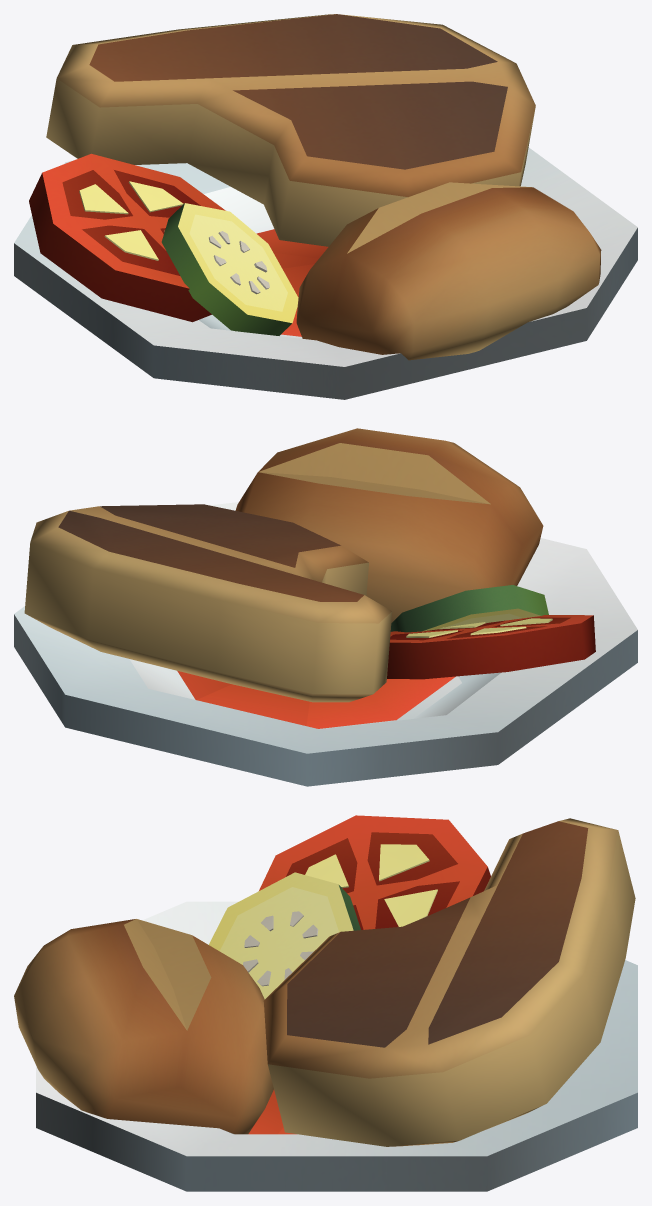
The model's file is plate_steak.fbx.
The picture shows the model from 3 angles, top to bottom: view 1: azimuth 30°, elevation 25°; view 2: azimuth 150°, elevation 25°; view 3: azimuth 270°, elevation 25°; orthographic projection. The views are drawn at different scales.
Visible parts, largest first — view 1: plate_steak; view 2: plate_steak; view 3: plate_steak.
Part boxes in pixels (x1,y1,x2,y2): plate_steak: [14, 14, 637, 399]; plate_steak: [14, 428, 637, 786]; plate_steak: [14, 815, 637, 1191].
Size of the model in its own units: 54.92 by 21.14 by 53.59.
